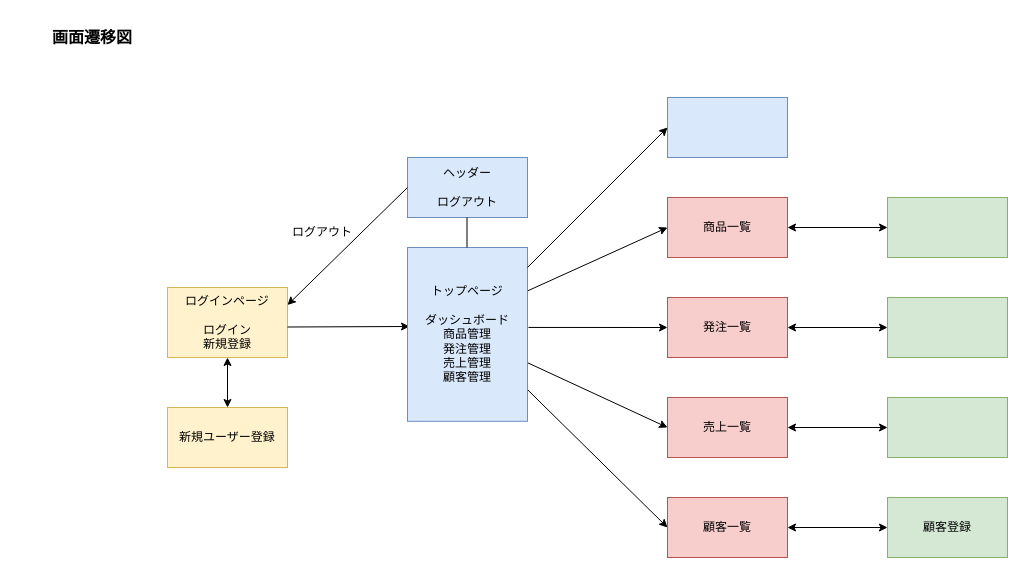
The diagram is 1025 pixels wide and 575 high, and some of its shapes have lost their labels. Each missing label, with the box of its shape:
ダッシュボード: (666, 96, 788, 158)
商品登録: (886, 196, 1008, 258)
売上登録: (886, 396, 1008, 458)
発注登録: (886, 296, 1008, 358)
